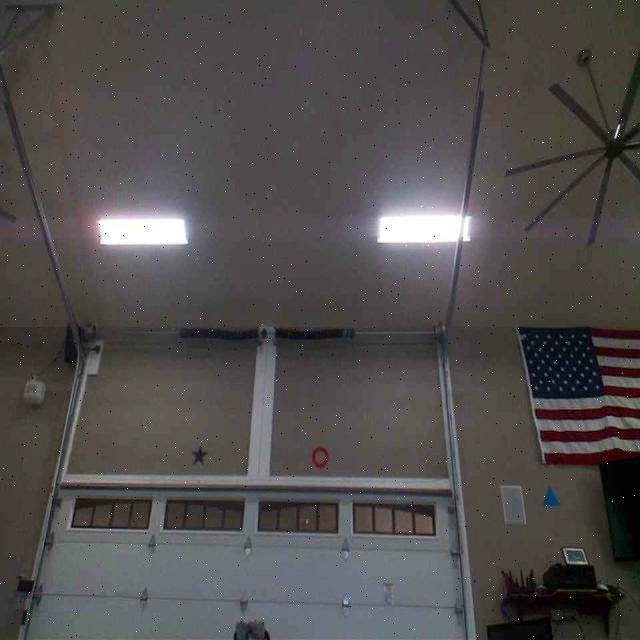ring_red: (310, 444, 328, 466)
star_black: (191, 442, 207, 466)
triangle_blue: (543, 484, 560, 506)
